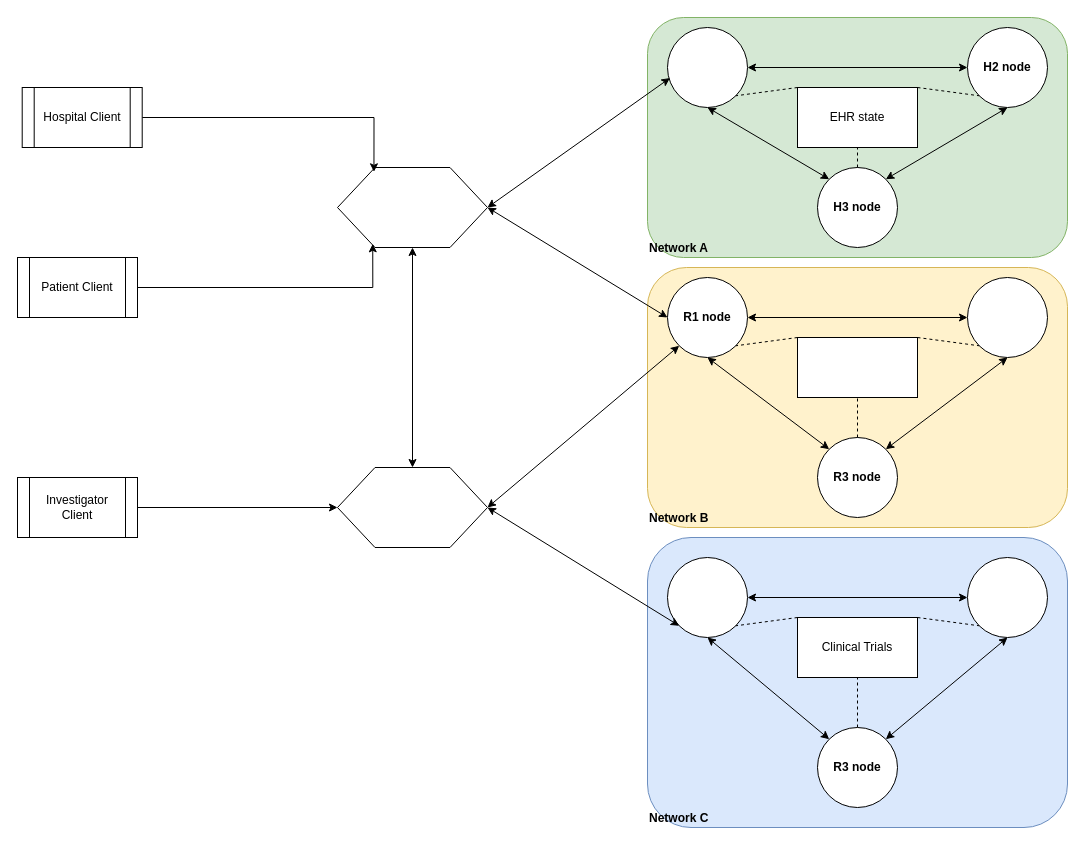
Some shapes in this 1085 by 845 pixel diagram are drawn without their labels. Each missing label, with the centre of its shape:
"H1 node" goes at [707,67].
"Hospital1 backend" goes at [412,207].
"I1 node" goes at [707,597].
"I2 node" goes at [1007,597].
"Investigator1 backend" goes at [412,507].
"R2 node" goes at [1007,317].
"Roles/ Permission/ Consent state" goes at [857,367].
